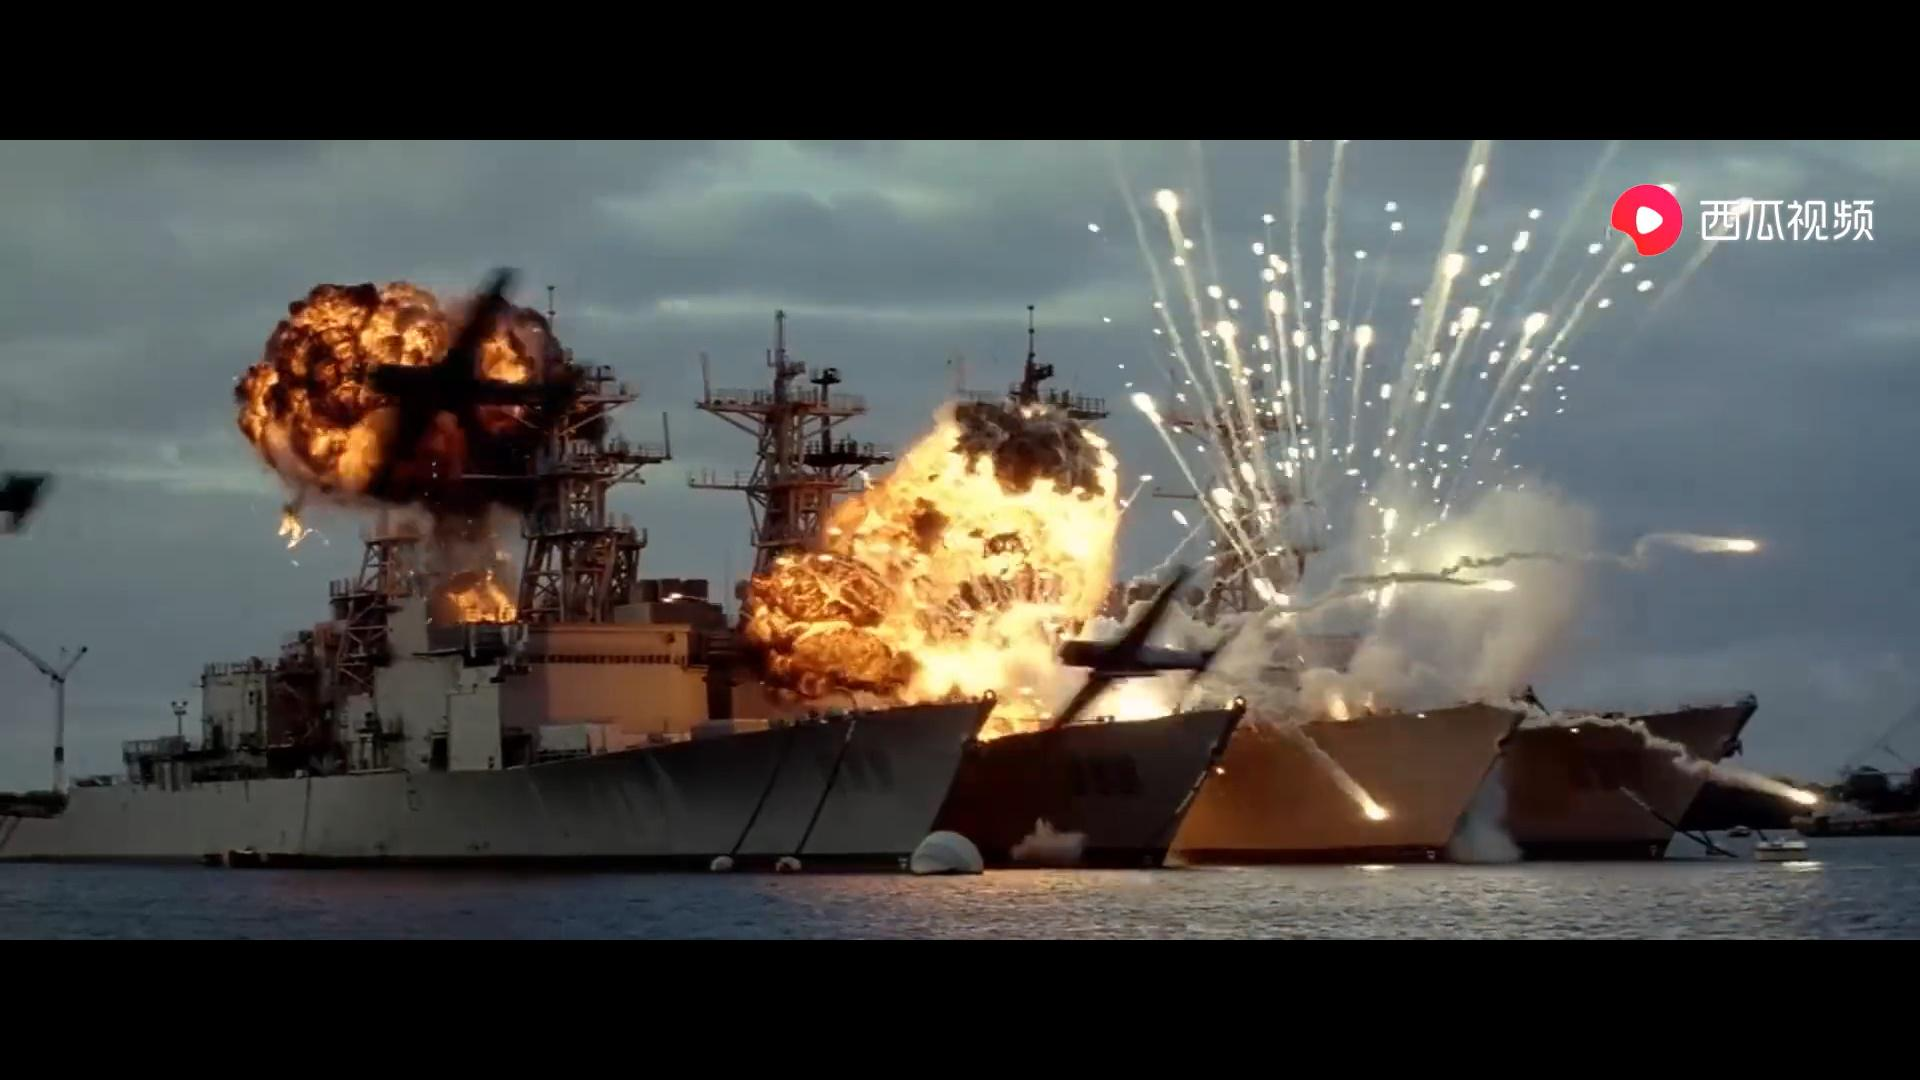fire: (212, 135, 1704, 807)
